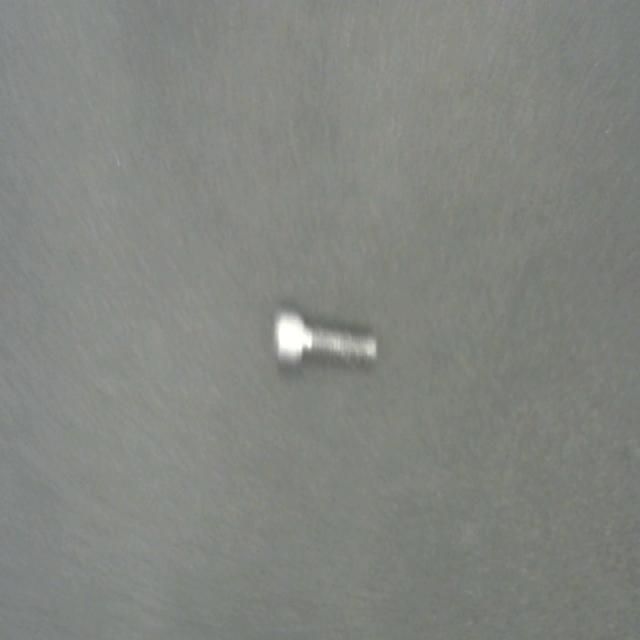SocketHeadCapScrew: (272, 307, 379, 373)
